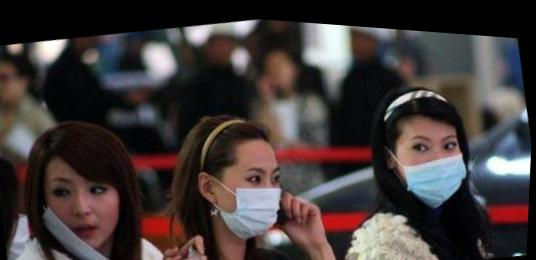OK: (385, 112, 476, 205), (207, 150, 293, 238)
WRONG: (40, 166, 131, 252)
